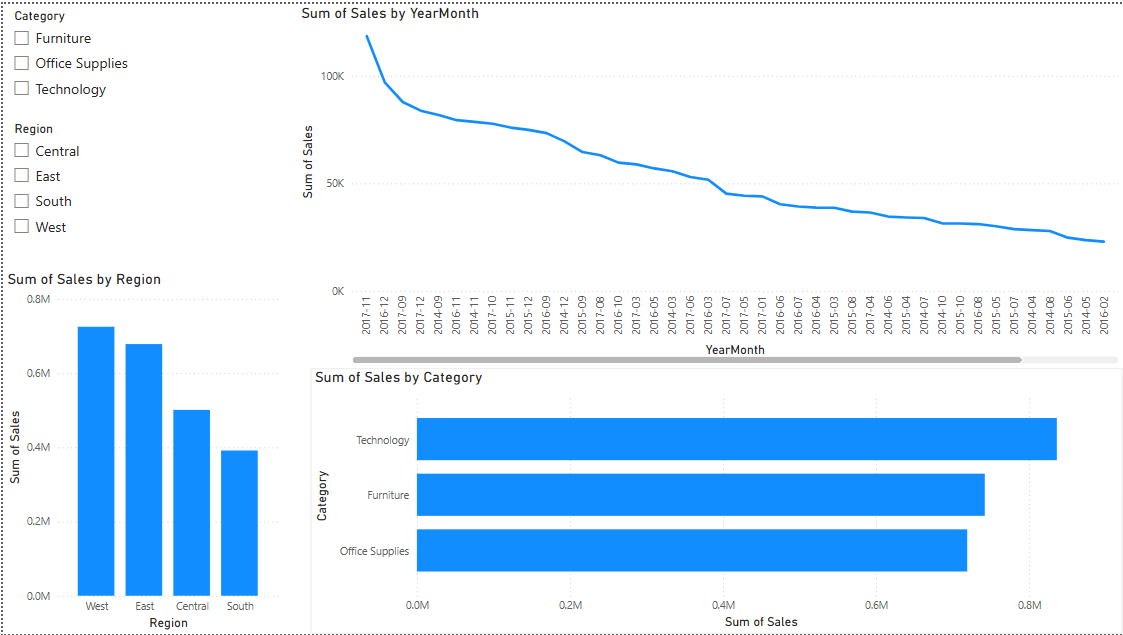

What the dashboard file says about the page in this screenshot:
{"tool":"powerbi","page":{"name":"Page 1","canvas":[1280,720],"ordinal":0},"visuals":[{"type":"clusteredBarChart","fields":{"Category":["Superstore.Category"],"Y":["Sum(Superstore.Sales)"]},"box":[352,416,928,304],"z":0},{"type":"clusteredColumnChart","fields":{"Category":["Superstore.Region"],"Y":["Sum(Superstore.Sales)"]},"box":[0,304,320,416],"z":1},{"type":"lineChart","fields":{"Category":["Superstore.YearMonth"],"Y":["Sum(Superstore.Sales)"]},"box":[336,0,944,416],"z":2},{"type":"slicer","fields":{"Values":["Superstore.Region"]},"box":[0,128,320,160],"z":3},{"type":"slicer","fields":{"Values":["Superstore.Category"]},"box":[0,0,320,128],"z":4}]}

Visuals, with their boxes in screenshot pixels (x1, y1, x2, y2), scaled from the page's 1280x720 canvas onto the 1123x635 screenshot:
clusteredBarChart - Superstore.Category x Sum(Superstore.Sales): x1=309 y1=367 x2=1122 y2=634
clusteredColumnChart - Superstore.Region x Sum(Superstore.Sales): x1=0 y1=268 x2=281 y2=634
lineChart - Superstore.YearMonth x Sum(Superstore.Sales): x1=295 y1=0 x2=1122 y2=367
slicer - Superstore.Region: x1=0 y1=113 x2=281 y2=254
slicer - Superstore.Category: x1=0 y1=0 x2=281 y2=113
